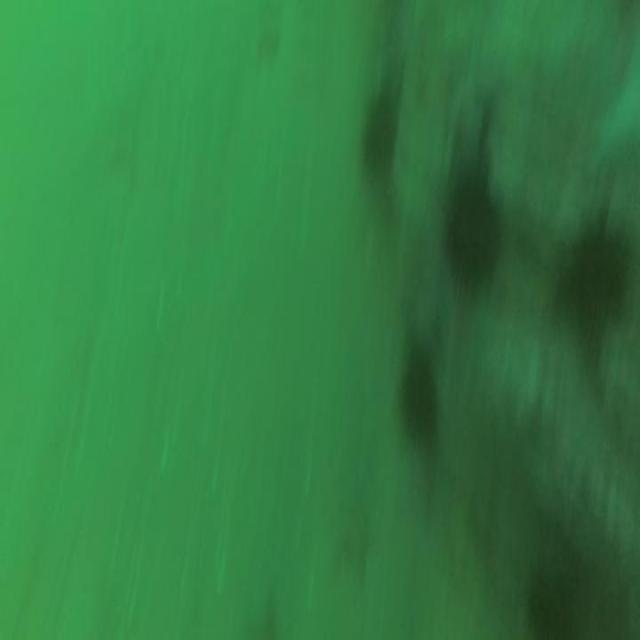echinus: (560, 215, 626, 348), (441, 168, 500, 300), (397, 339, 447, 456), (358, 79, 404, 193), (521, 558, 575, 638)
